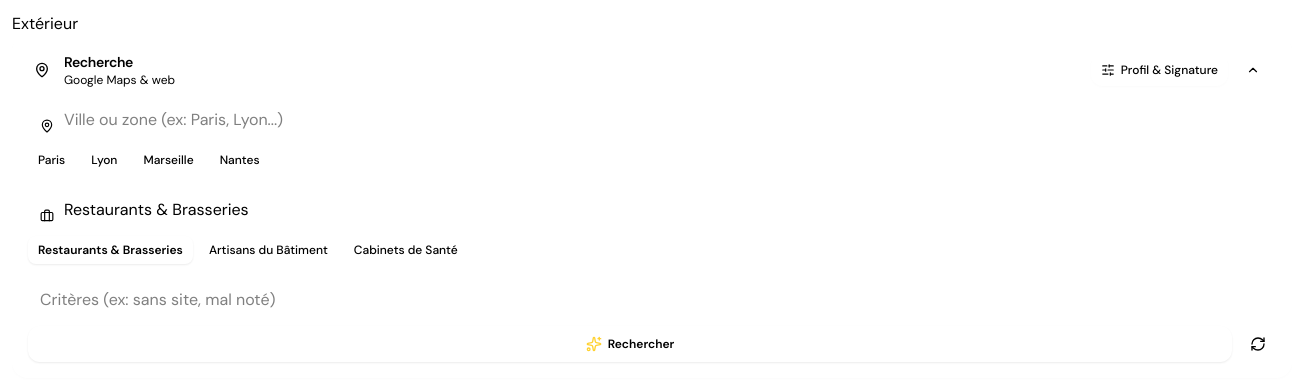
Test: Component - SearchPanel Integration › closes suggestions dropdown when clicking outside
Type "Lyon" into the field labelled "Ville ou zone" at (652, 119), box 28,100 -> 1276,138
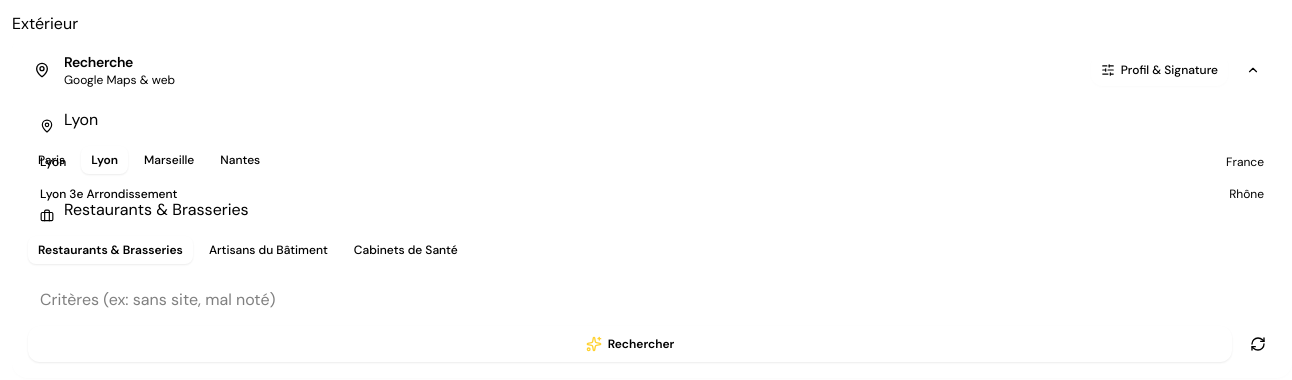
Result: the text "Lyon 3e Arrondissement" is shown at 40,186 -> 177,202
# Click outside
Press the mouse on the text with test id "outside-element" at (45, 24), box 12,13 -> 78,34
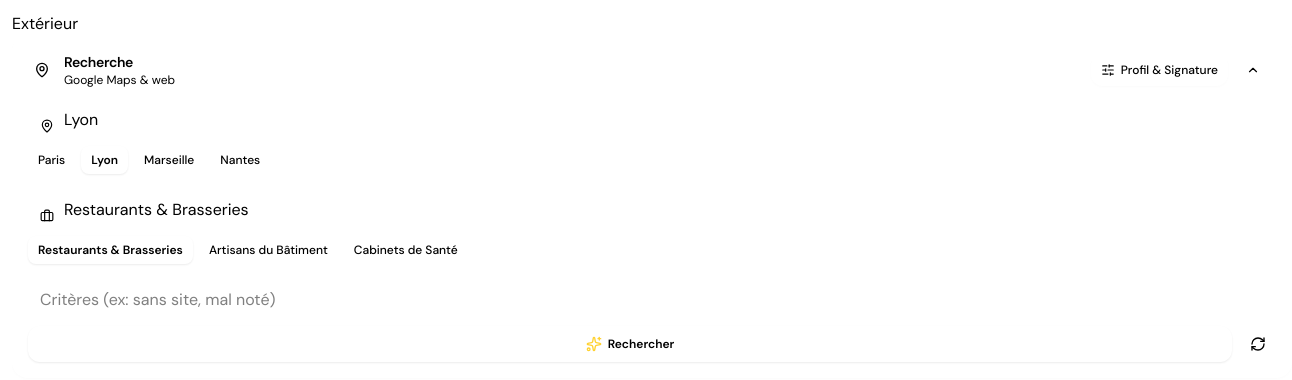
Result: the button "Lyon 3e Arrondissement" is gone
